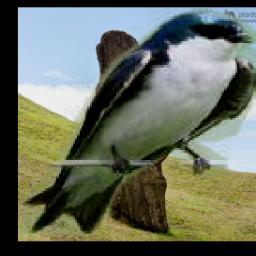Swallow: (19, 9, 256, 235)
